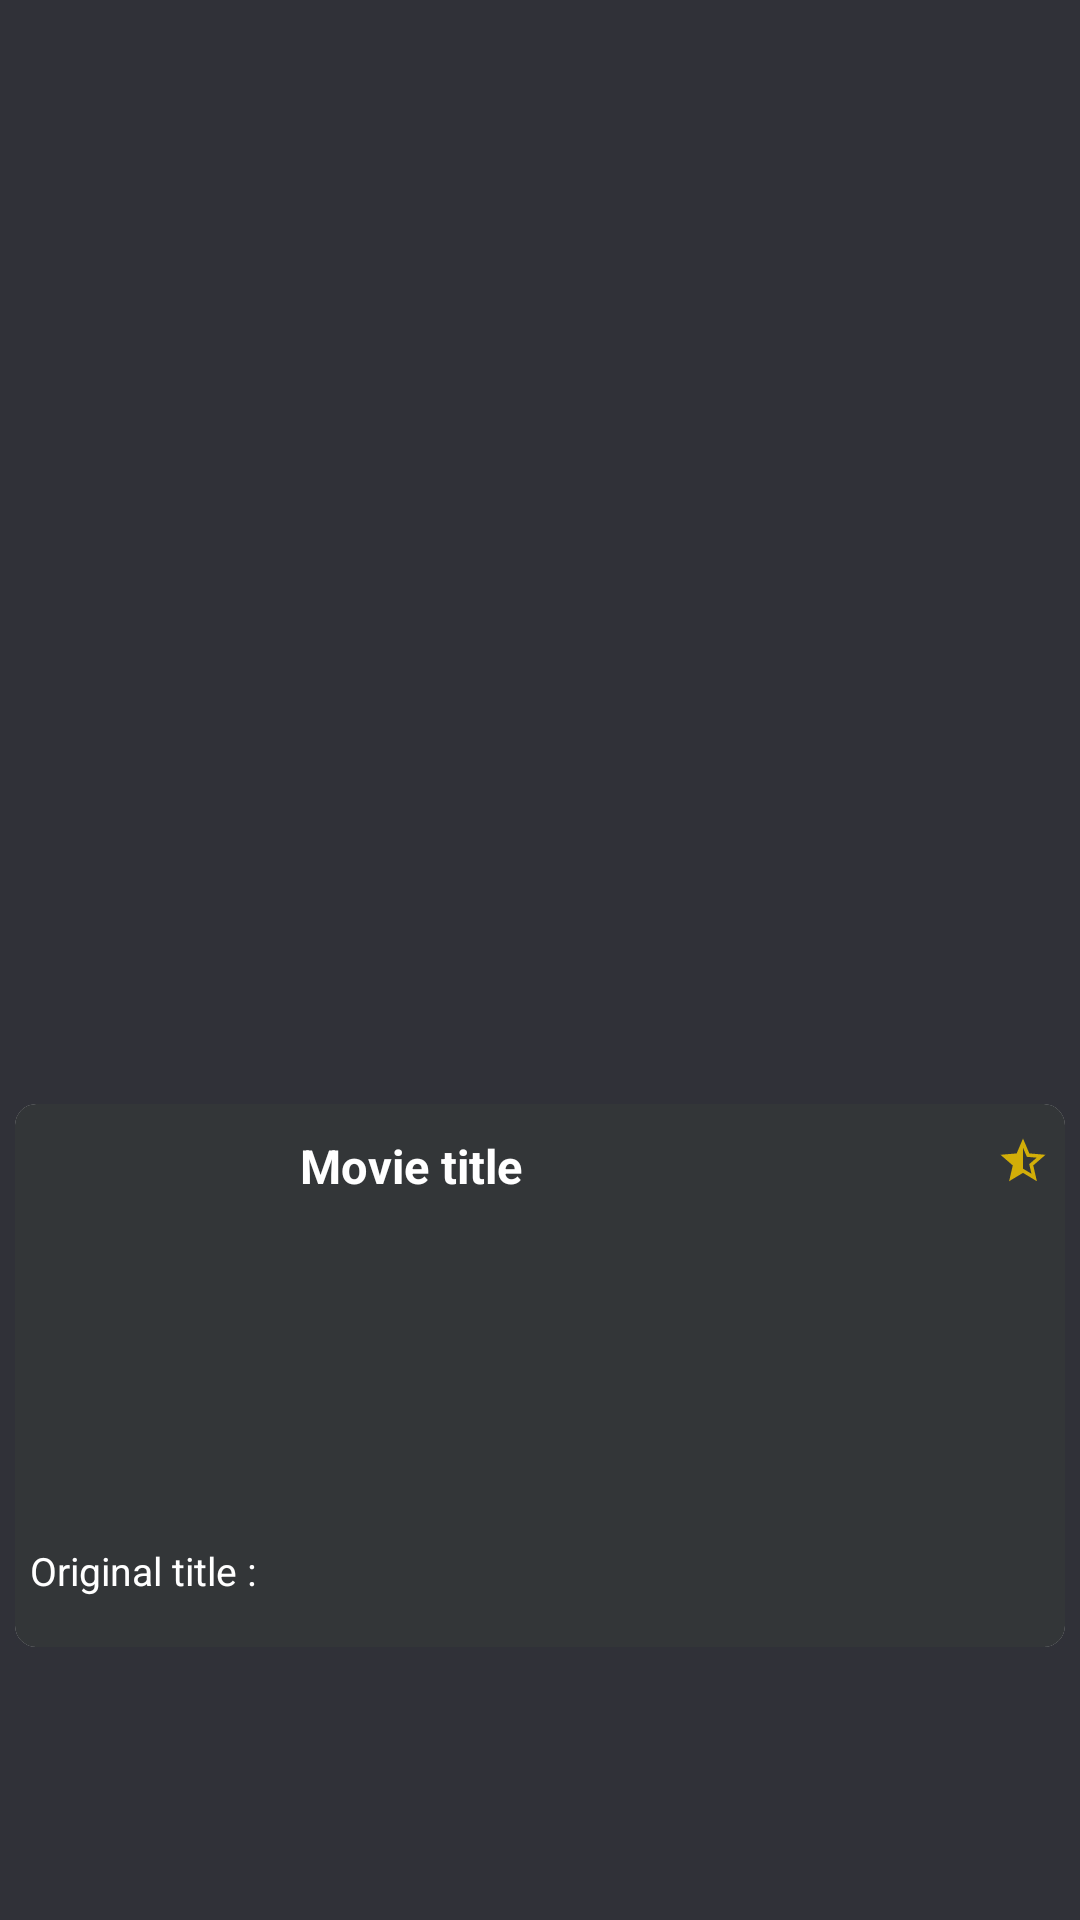

Icon bounding boxes for this 1080x1920 phone screenshot, format detection(x1, y1, x2, y2):
star half: detection(1001, 1139, 1045, 1181)
